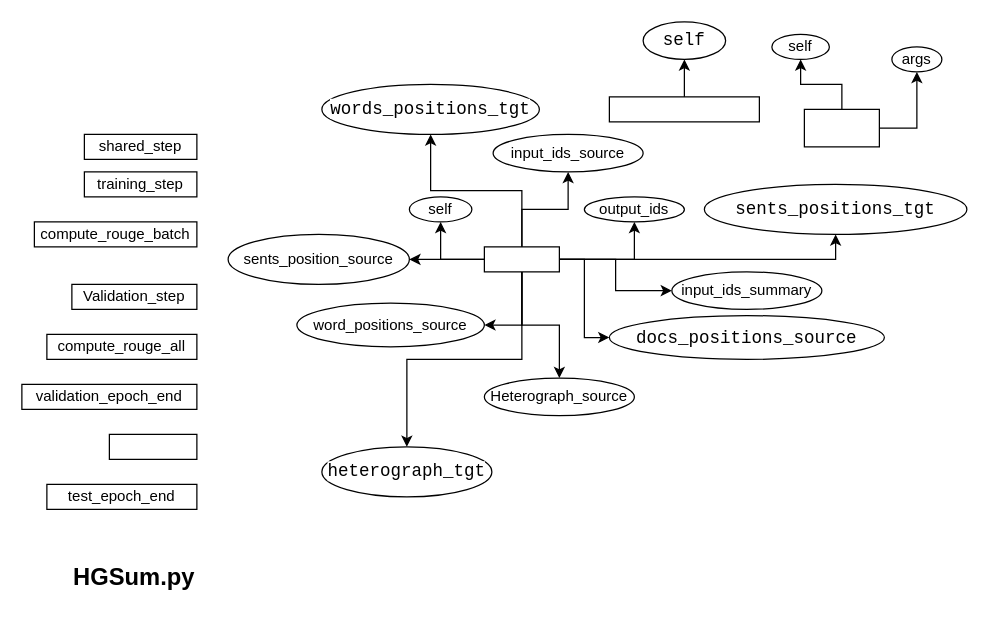
The diagram is 989 pixels wide and 619 high, and some of its shapes have lost their labels. The shapes that lost their labels are listed below. From the top down, each one's centre as x and y in pixels, then its label:
At [683,109]: "configure_optimizers".
At [841,127]: "__init__".
At [521,259]: "forward".
At [152,446]: "test_step".
